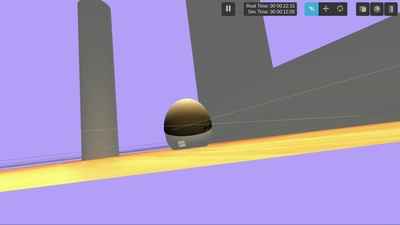mira_robot: (164, 98, 213, 150)
